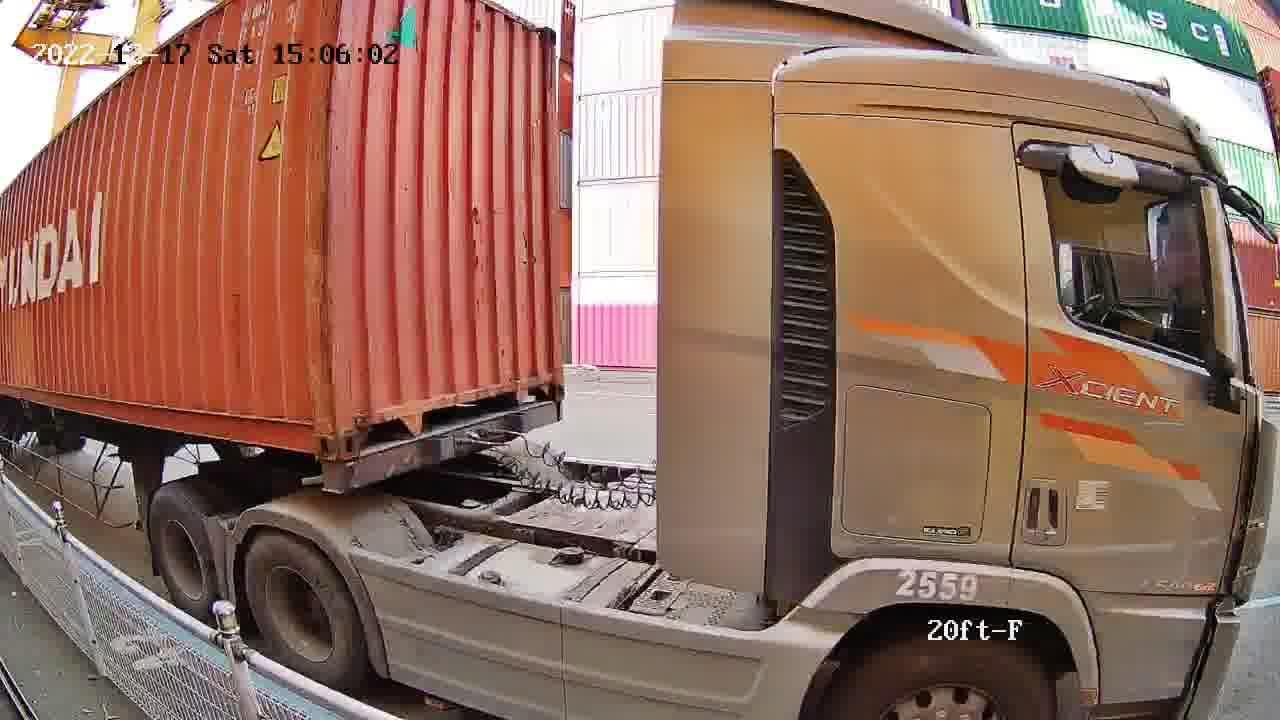Chassis: (341, 401, 563, 492)
Cone: (310, 461, 340, 492)
Hole_L: (340, 400, 384, 461)
Hole_R: (288, 407, 336, 458), (529, 355, 567, 406)
Tire: (246, 538, 349, 675), (150, 499, 220, 614)
